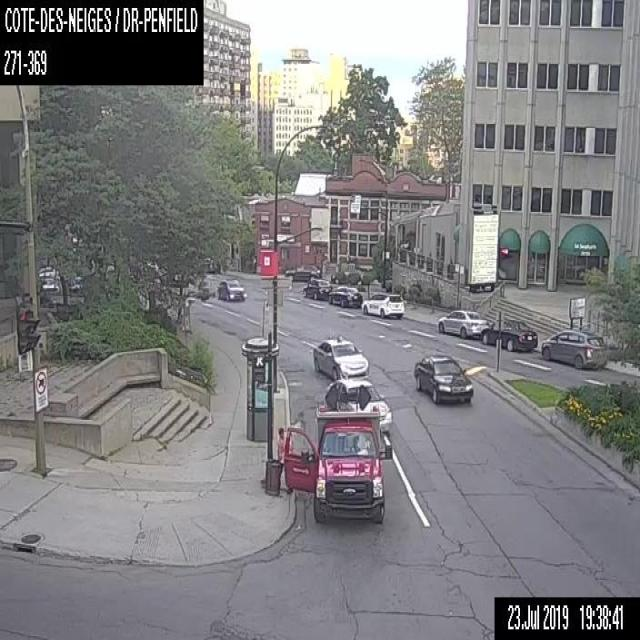pedestrian: (276, 425, 294, 495)
vehicle: (282, 382, 393, 522), (325, 376, 392, 432), (412, 352, 472, 401), (540, 327, 604, 369), (312, 334, 368, 378), (482, 318, 536, 350), (436, 307, 488, 337), (360, 290, 405, 318), (284, 262, 321, 283), (328, 285, 362, 307), (217, 276, 246, 301), (302, 278, 333, 299)
